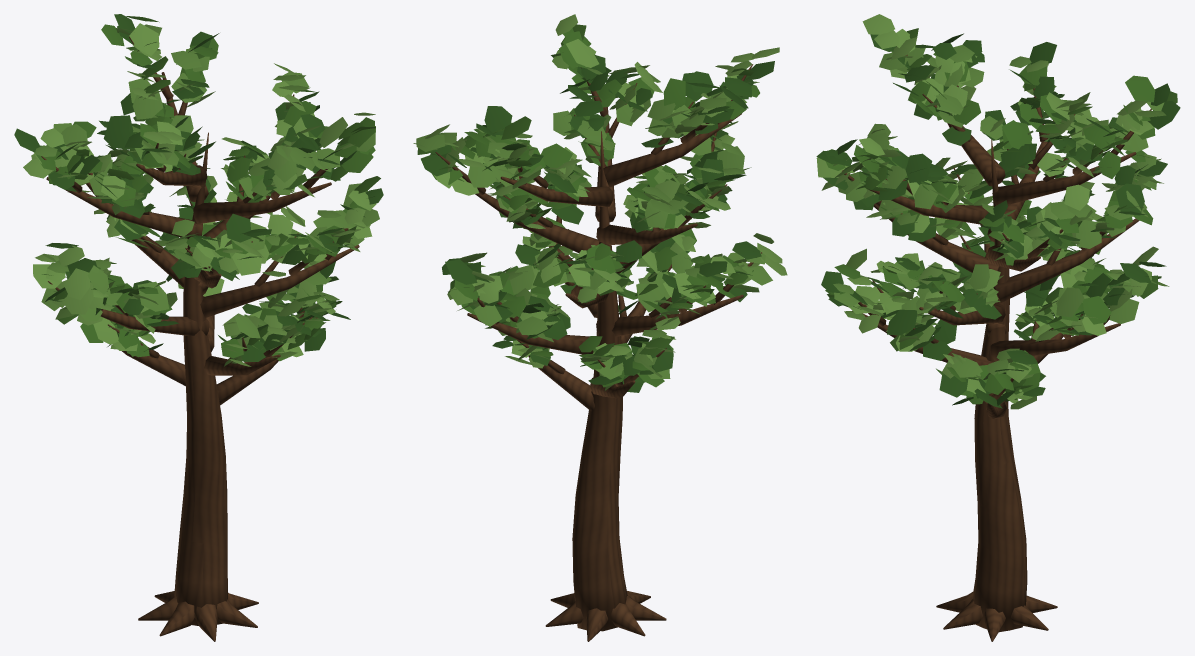
3 renders of one model, left to right at view 1: azimuth 30°, elevation 25°; view 2: azimuth 150°, elevation 25°; view 3: azimuth 270°, elevation 25°, orthographic.
Parts seen in each view (by area): view 1: static_tree_deciduous_13; view 2: static_tree_deciduous_13; view 3: static_tree_deciduous_13.
Part boxes in pixels (bbox=[...]): static_tree_deciduous_13: bbox=[14, 14, 383, 641]; static_tree_deciduous_13: bbox=[413, 14, 787, 641]; static_tree_deciduous_13: bbox=[816, 14, 1180, 641].
Size of the model in its own units: 3 by 5 by 3.
Materials: 5 (1 with a texture image).
